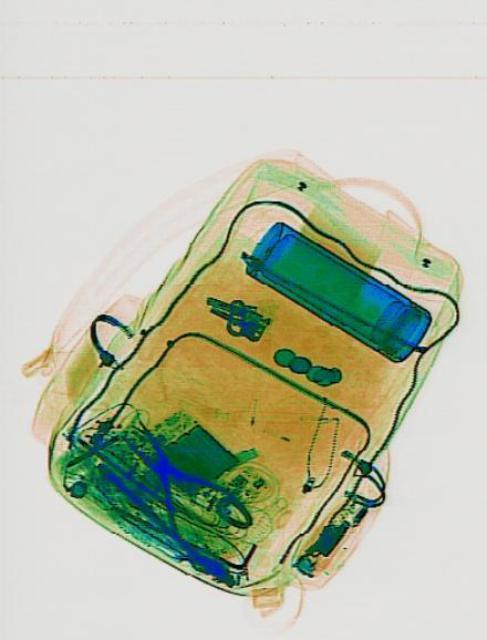Pliers: (104, 398, 230, 546)
